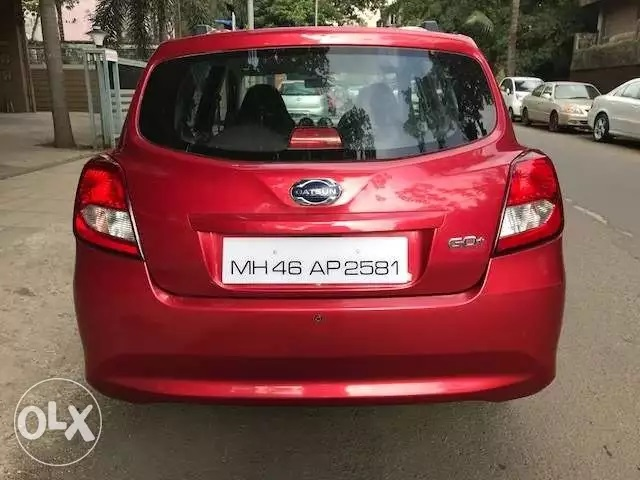licenseplate: (221, 233, 415, 288)
